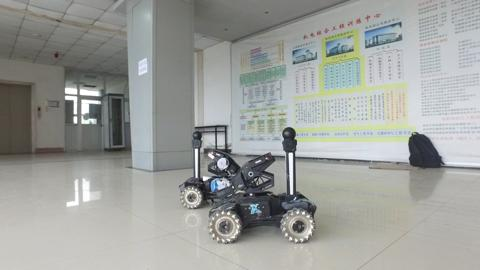chariot: (200, 124, 319, 248), (180, 128, 250, 211)
